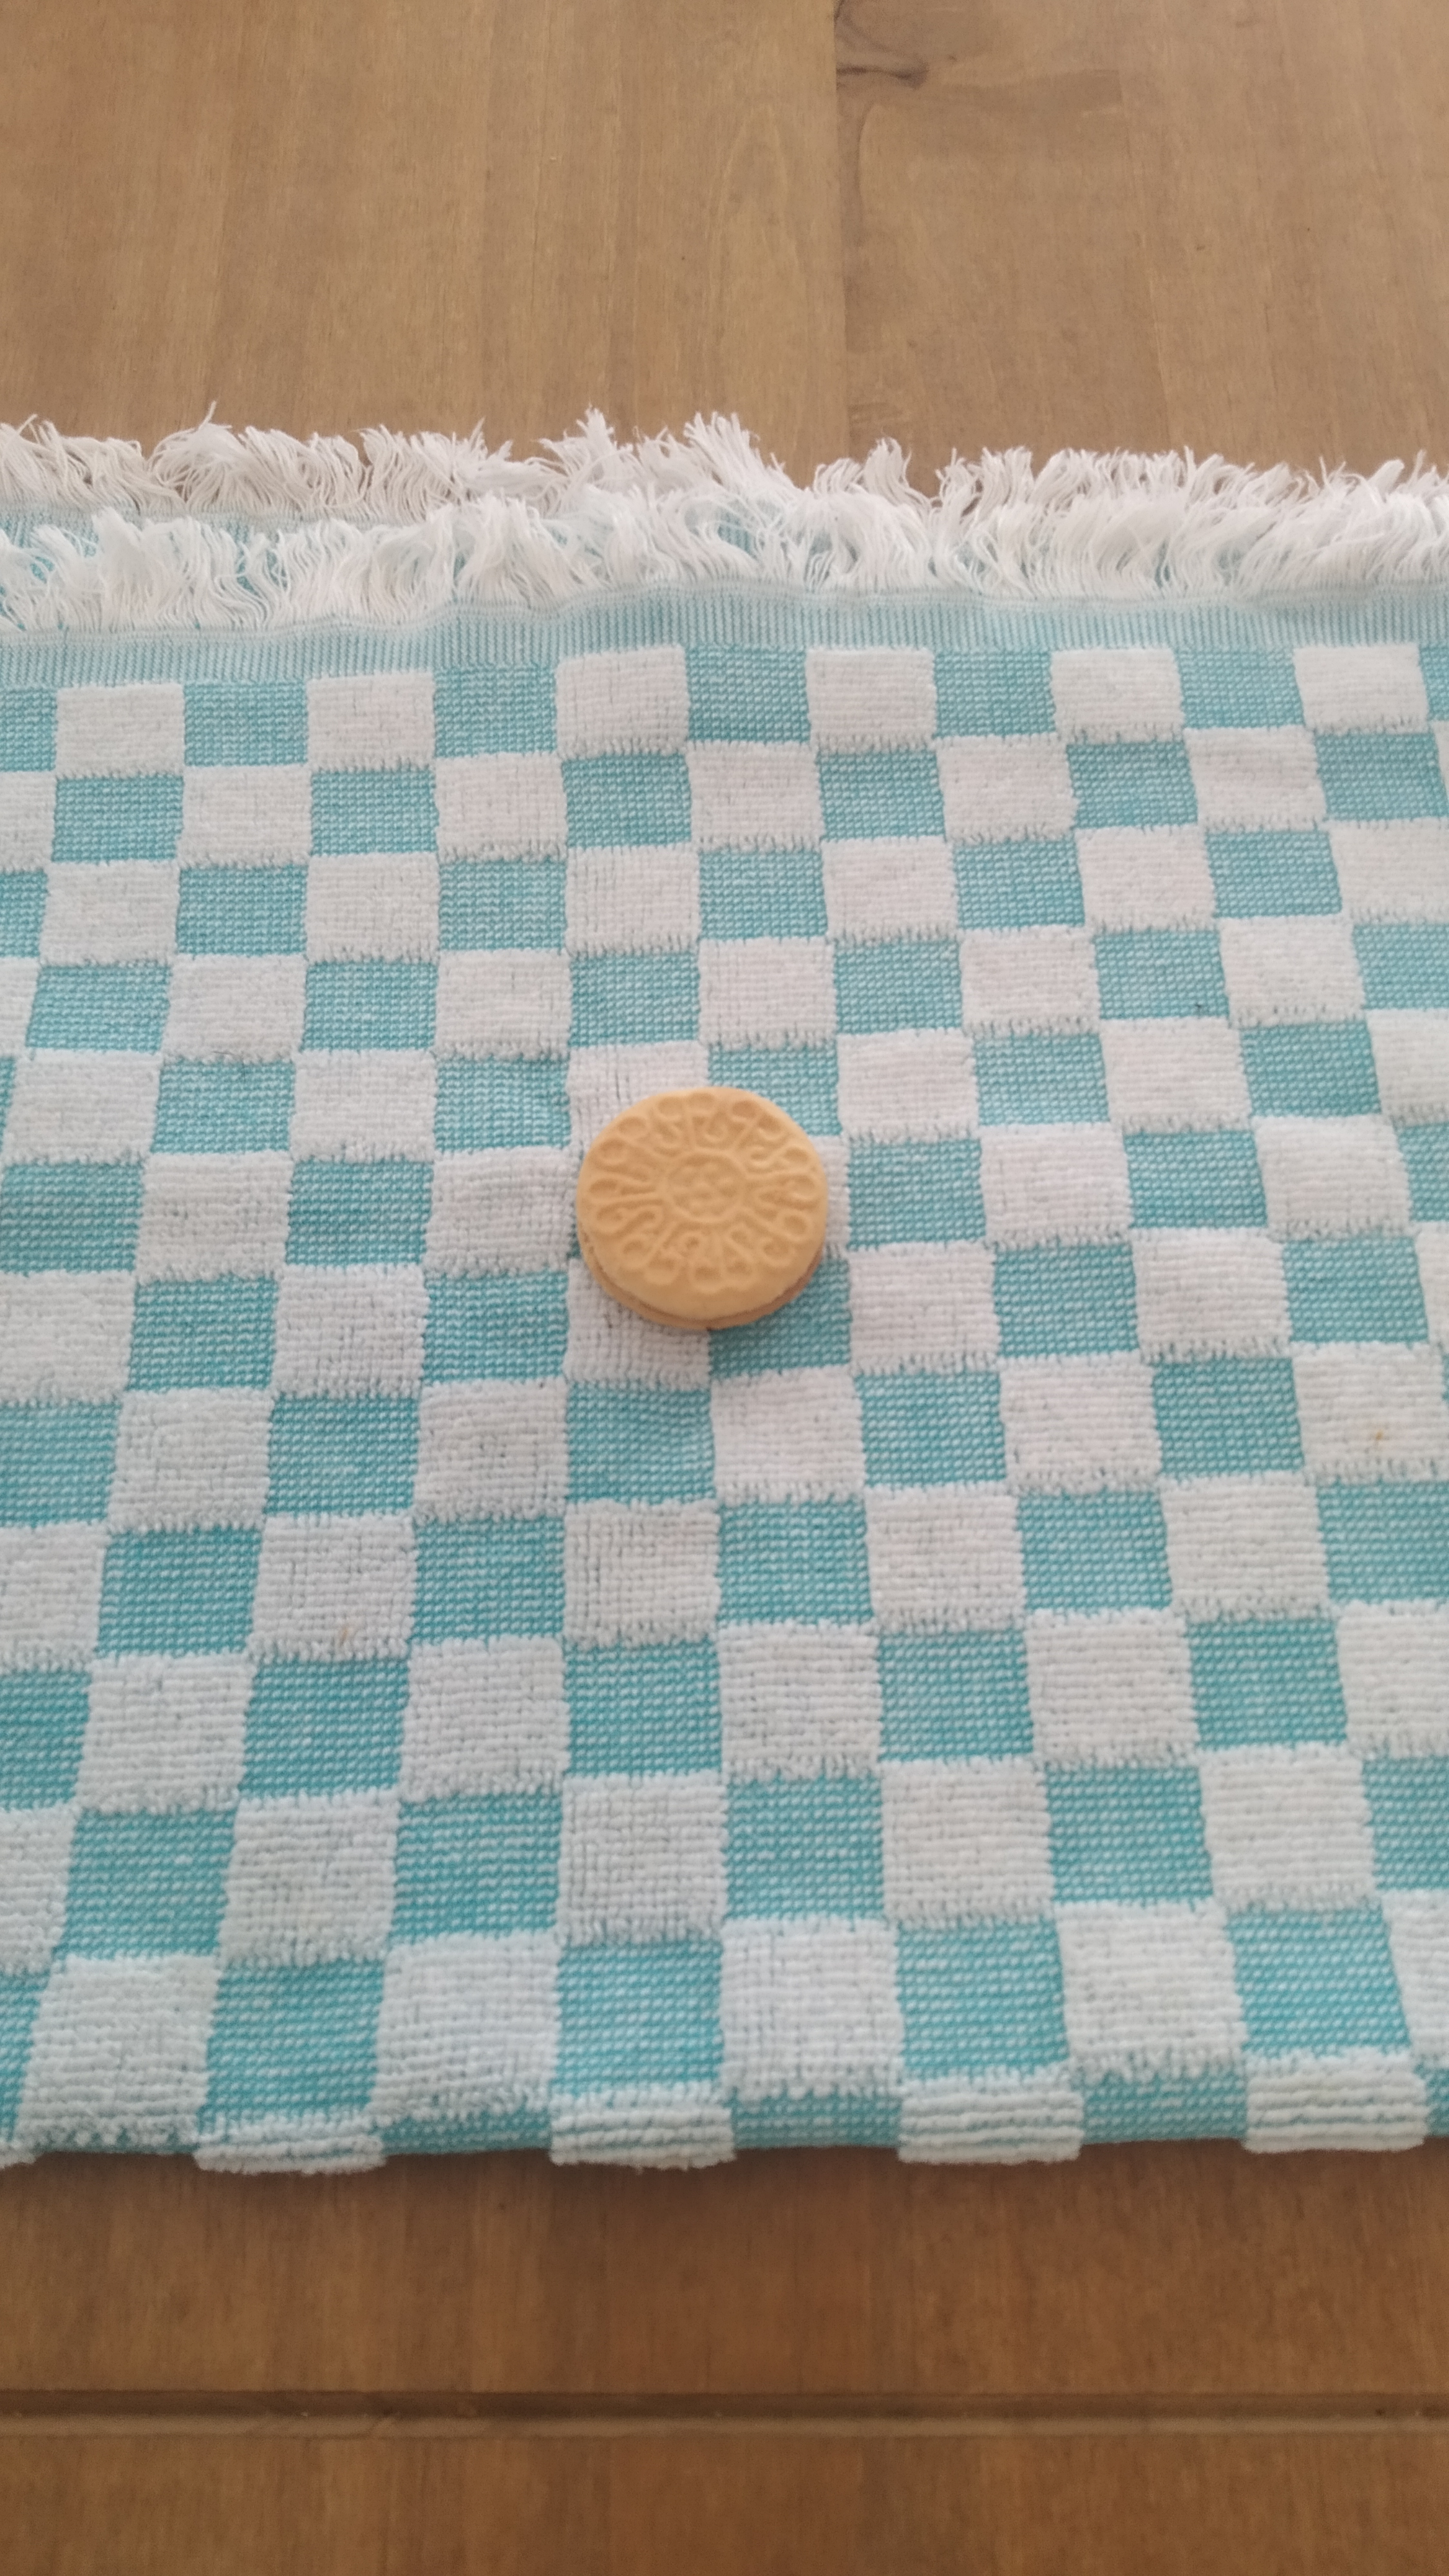lulu: (575, 1088, 828, 1330)
